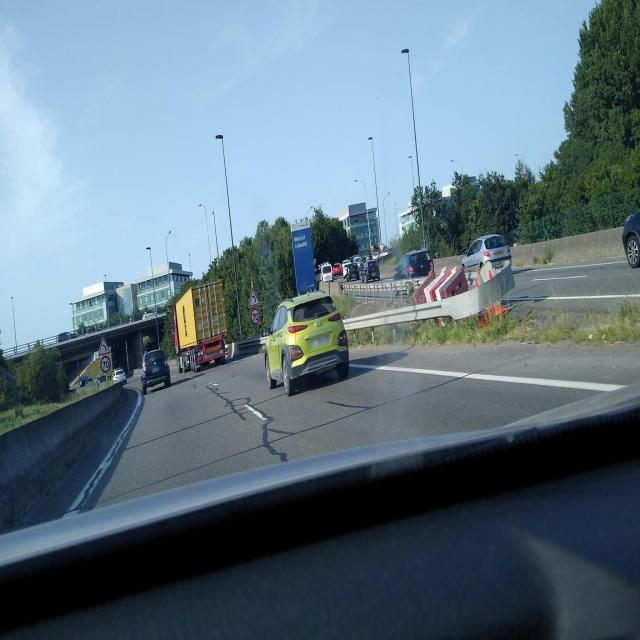car: (264, 288, 350, 394), (459, 232, 512, 274), (392, 249, 435, 285), (622, 184, 640, 269), (140, 349, 172, 394), (360, 260, 380, 282), (320, 261, 333, 280), (112, 367, 126, 384), (332, 261, 342, 277)
